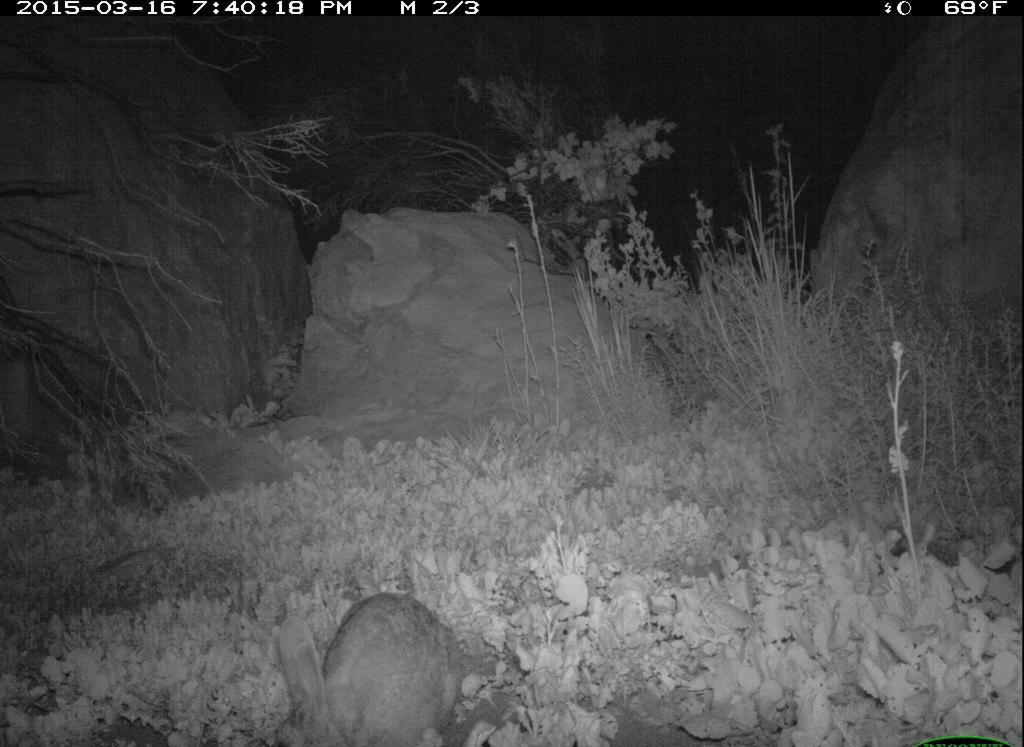rabbit: (264, 588, 473, 747)
